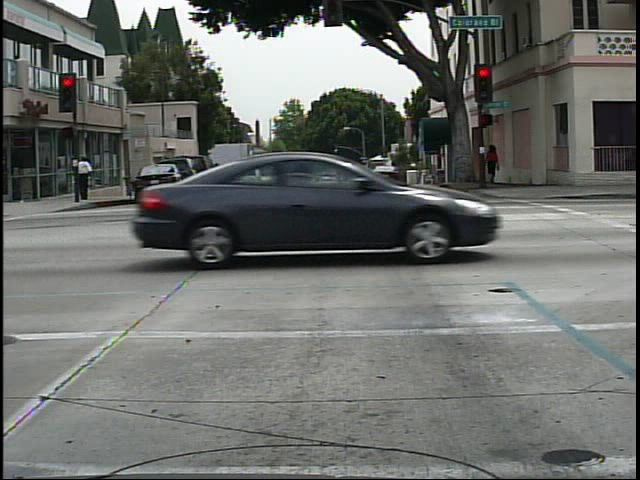person: (485, 139, 505, 189), (78, 150, 95, 201)
